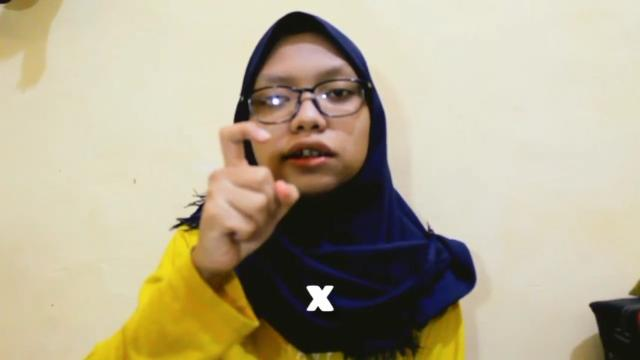X: (198, 115, 298, 276)
